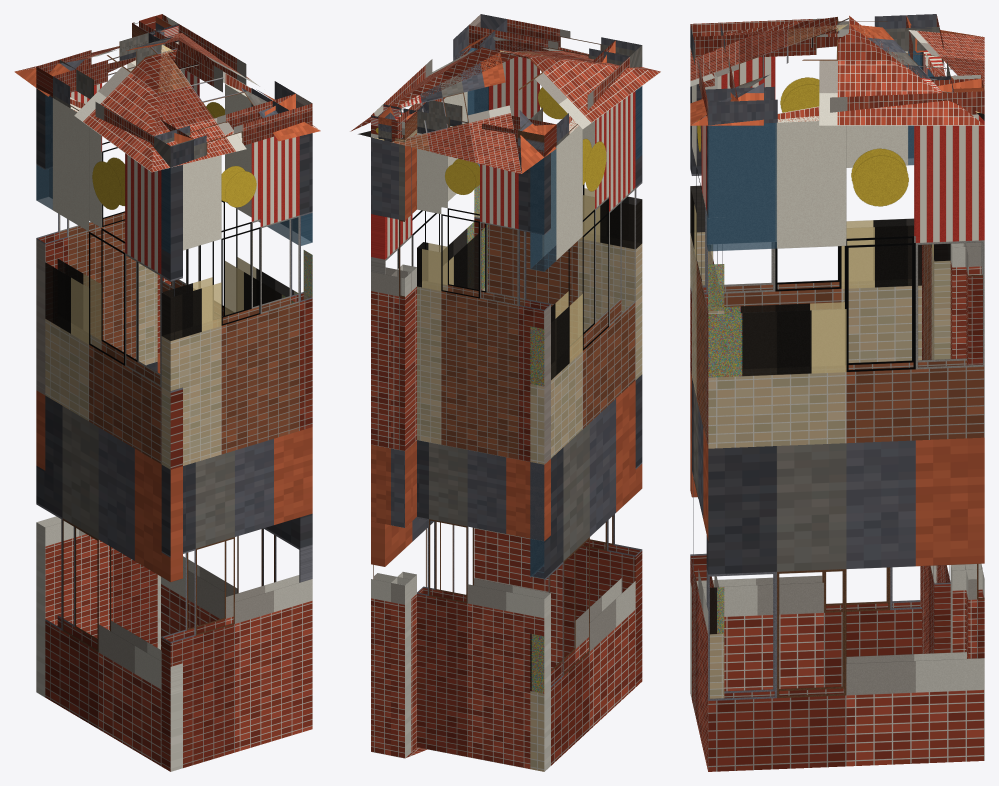
3 renders of one model, left to right at view 1: azimuth 30°, elevation 25°; view 2: azimuth 150°, elevation 25°; view 3: azimuth 270°, elevation 25°, orthographic. The views are drawn at different scales.
Parts seen in each view (by area): view 1: 238636757__wall_0_xb, 238636757__wall_5_xb, 238636757__wall_4_xb, 238636757__wall_1_xb, 238636757_roof_left_xb, 238636757_roof_front_xb, 238636757__wall_5_xf, 238636757__wall_0_xf, 238636757__cornice_0, 238636757__cornice_1, 238636757__wall_1_xf, 238636757__cornice_4 (+3 smaller); view 2: 238636757__wall_4_xb, 238636757__wall_5_xb, 238636757__wall_0_xb, 238636757__wall_2_xb, 238636757__wall_3_xb, 238636757__wall_5_xf, 238636757__wall_1_xb, 238636757_roof_back_xb, 238636757_roof_left_xb, 238636757__cornice_0, 238636757__wall_0_xf, 238636757_roof_right_xb (+8 smaller); view 3: 238636757__wall_1_xb, 238636757__wall_5_xb, 238636757__wall_1_xf, 238636757__wall_0_xb, 238636757_roof_right_xb, 238636757__wall_4_xb, 238636757__cornice_1, 238636757__wall_5_xf, 238636757__wall_3_xb, 238636757__cornice_5, 238636757_roof_front_xb, 238636757_roof_back_xb (+5 smaller).
Part boxes in pixels (<box>): 238636757__wall_0_xb: <box>161,125,312,771</box>; 238636757__wall_5_xb: <box>36,95,182,771</box>; 238636757__wall_4_xb: <box>36,60,157,697</box>; 238636757__wall_1_xb: <box>161,66,312,650</box>; 238636757_roof_left_xb: <box>14,47,177,171</box>; 238636757_roof_front_xb: <box>151,44,320,172</box>; 238636757__wall_5_xf: <box>36,95,100,343</box>; 238636757__wall_0_xf: <box>162,168,311,340</box>; 238636757__cornice_0: <box>154,93,312,167</box>; 238636757__cornice_1: <box>139,14,295,113</box>; 238636757__wall_1_xf: <box>225,213,312,314</box>; 238636757__cornice_4: <box>36,32,165,97</box>; 238636757__wall_4_xb: <box>417,133,550,771</box>; 238636757__wall_5_xb: <box>530,87,642,771</box>; 238636757__wall_0_xb: <box>474,49,642,686</box>; 238636757__wall_2_xb: <box>371,137,411,757</box>; 238636757__wall_3_xb: <box>391,133,416,758</box>; 238636757__wall_5_xf: <box>530,150,582,693</box>; 238636757__wall_1_xb: <box>371,48,488,592</box>; 238636757_roof_back_xb: <box>358,52,521,173</box>; 238636757_roof_left_xb: <box>495,49,660,173</box>; 238636757__cornice_0: <box>468,14,642,67</box>; 238636757__wall_0_xf: <box>475,87,641,248</box>; 238636757_roof_right_xb: <box>350,35,517,131</box>; 238636757__wall_1_xb: <box>706,114,984,771</box>; 238636757__wall_5_xb: <box>690,51,933,699</box>; 238636757__wall_1_xf: <box>707,123,906,571</box>; 238636757__wall_0_xb: <box>690,84,724,771</box>; 238636757_roof_right_xb: <box>690,15,984,125</box>; 238636757__wall_4_xb: <box>920,50,950,653</box>; 238636757__cornice_1: <box>705,78,984,125</box>; 238636757__wall_5_xf: <box>842,51,933,288</box>; 238636757__wall_3_xb: <box>950,242,982,652</box>; 238636757__cornice_5: <box>690,14,939,57</box>; 238636757_roof_front_xb: <box>690,24,848,125</box>; 238636757_roof_back_xb: <box>849,24,984,120</box>.
Size of the model in its own units: 0.2054 by 0.7616 by 0.2888.
1 material, 1 textured.
